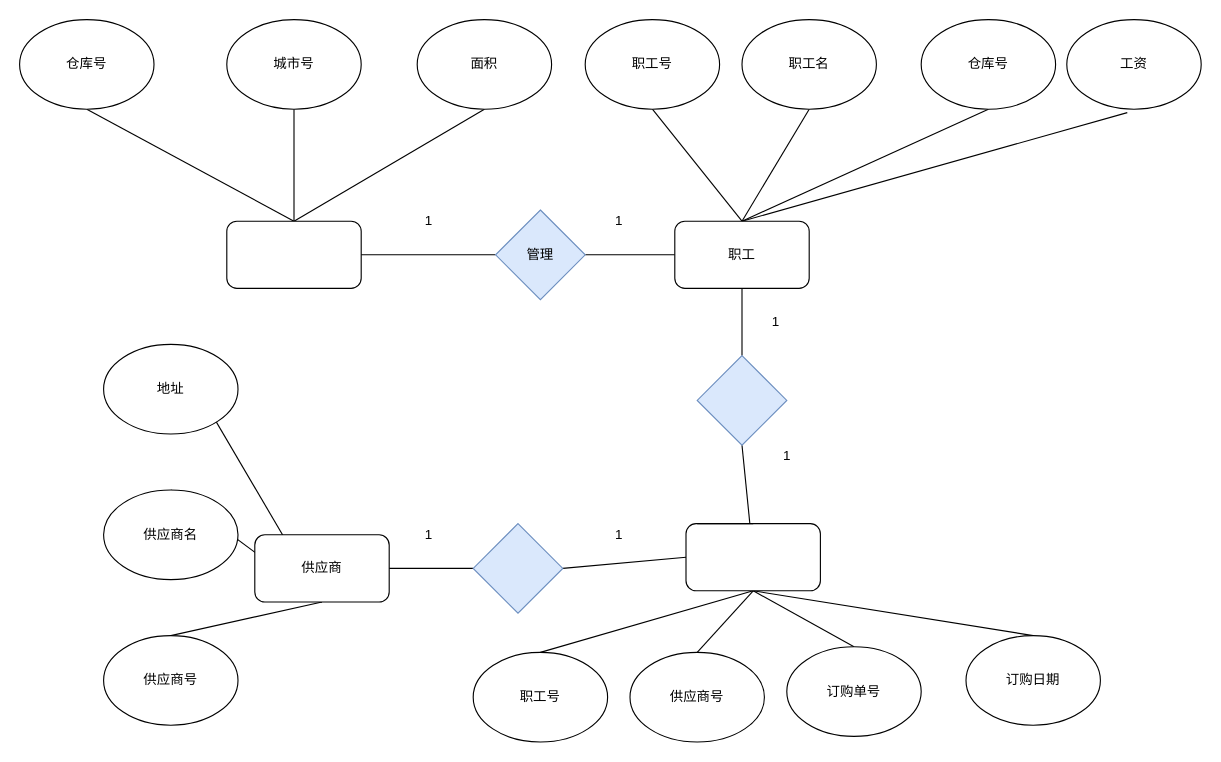
The diagram is 1221 pixels wide and 762 high, and some of its shapes have lost their labels. Here are the shapes that lost their labels. From the top down, the box of each, then its label:
(226, 220, 361, 288): 仓库
(696, 354, 787, 445): 维护
(472, 522, 563, 613): 关联
(685, 522, 820, 591): 订购单
